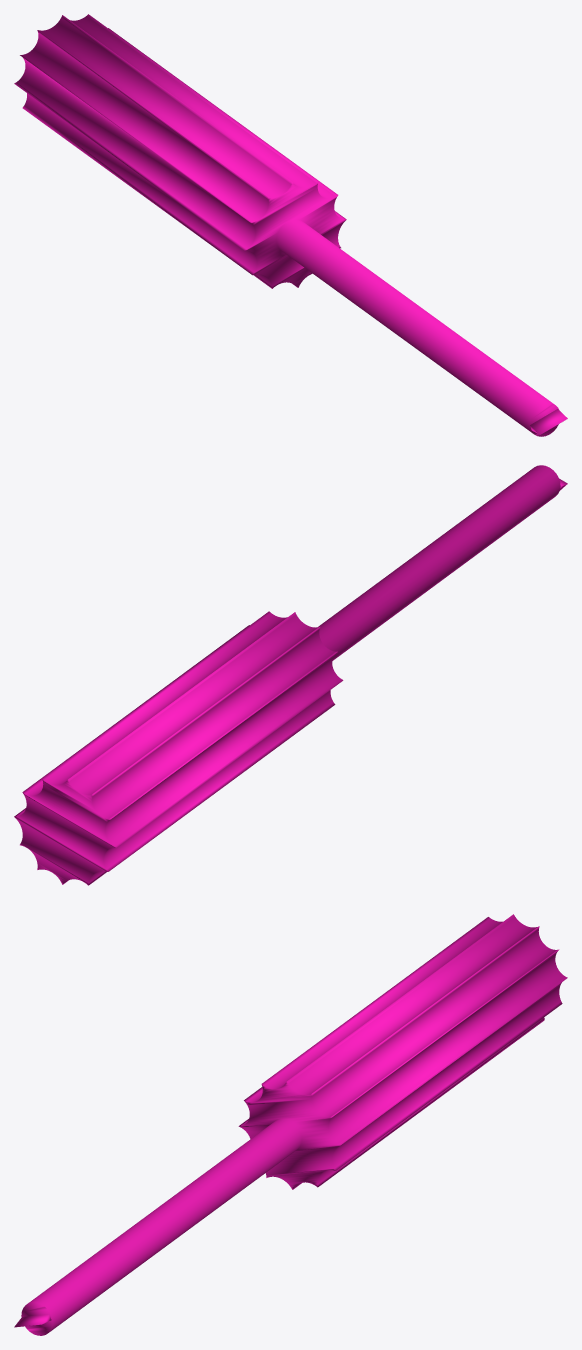
Rendered from screwdriver1_5.dae.
The picture shows the model from 3 angles, top to bottom: view 1: azimuth 30°, elevation 25°; view 2: azimuth 150°, elevation 25°; view 3: azimuth 330°, elevation 25°; orthographic projection.
Visible parts, largest first — view 1: screwdriver1_019; view 2: screwdriver1_019; view 3: screwdriver1_019.
Boxes of the visible parts, box(x1,y1,x2,y2) form: screwdriver1_019: box(14, 14, 567, 436); screwdriver1_019: box(14, 465, 567, 885); screwdriver1_019: box(14, 914, 567, 1335).
Bounding box in the file's own units: 0.0454 × 0.3695 × 0.0448.
